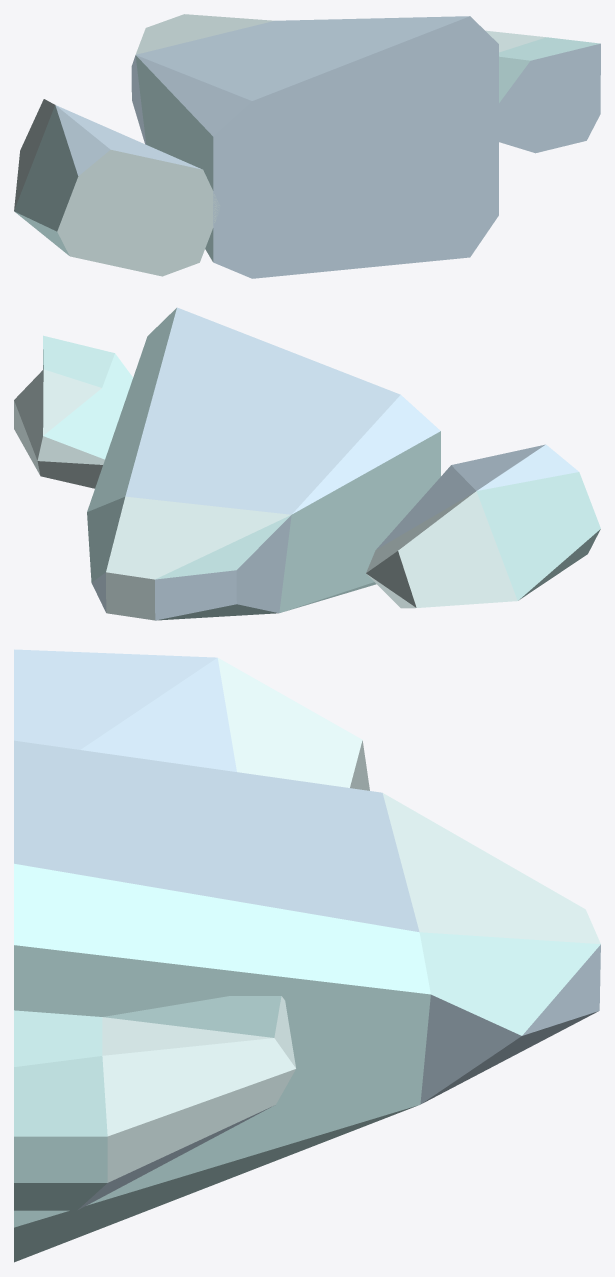
Rendered from winter_cube_2.fbx.
The picture shows the model from 3 angles, top to bottom: view 1: azimuth 30°, elevation 25°; view 2: azimuth 150°, elevation 25°; view 3: azimuth 270°, elevation 25°; orthographic projection. The views are drawn at different scales.
Parts seen in each view (by area): view 1: winter_cube_2; view 2: winter_cube_2; view 3: winter_cube_2.
Part boxes in pixels (<box>): winter_cube_2: <box>14,14,600,278</box>; winter_cube_2: <box>14,307,600,620</box>; winter_cube_2: <box>14,649,600,1262</box>.
Bounding box in the file's own units: 212 × 89.85 × 120.
